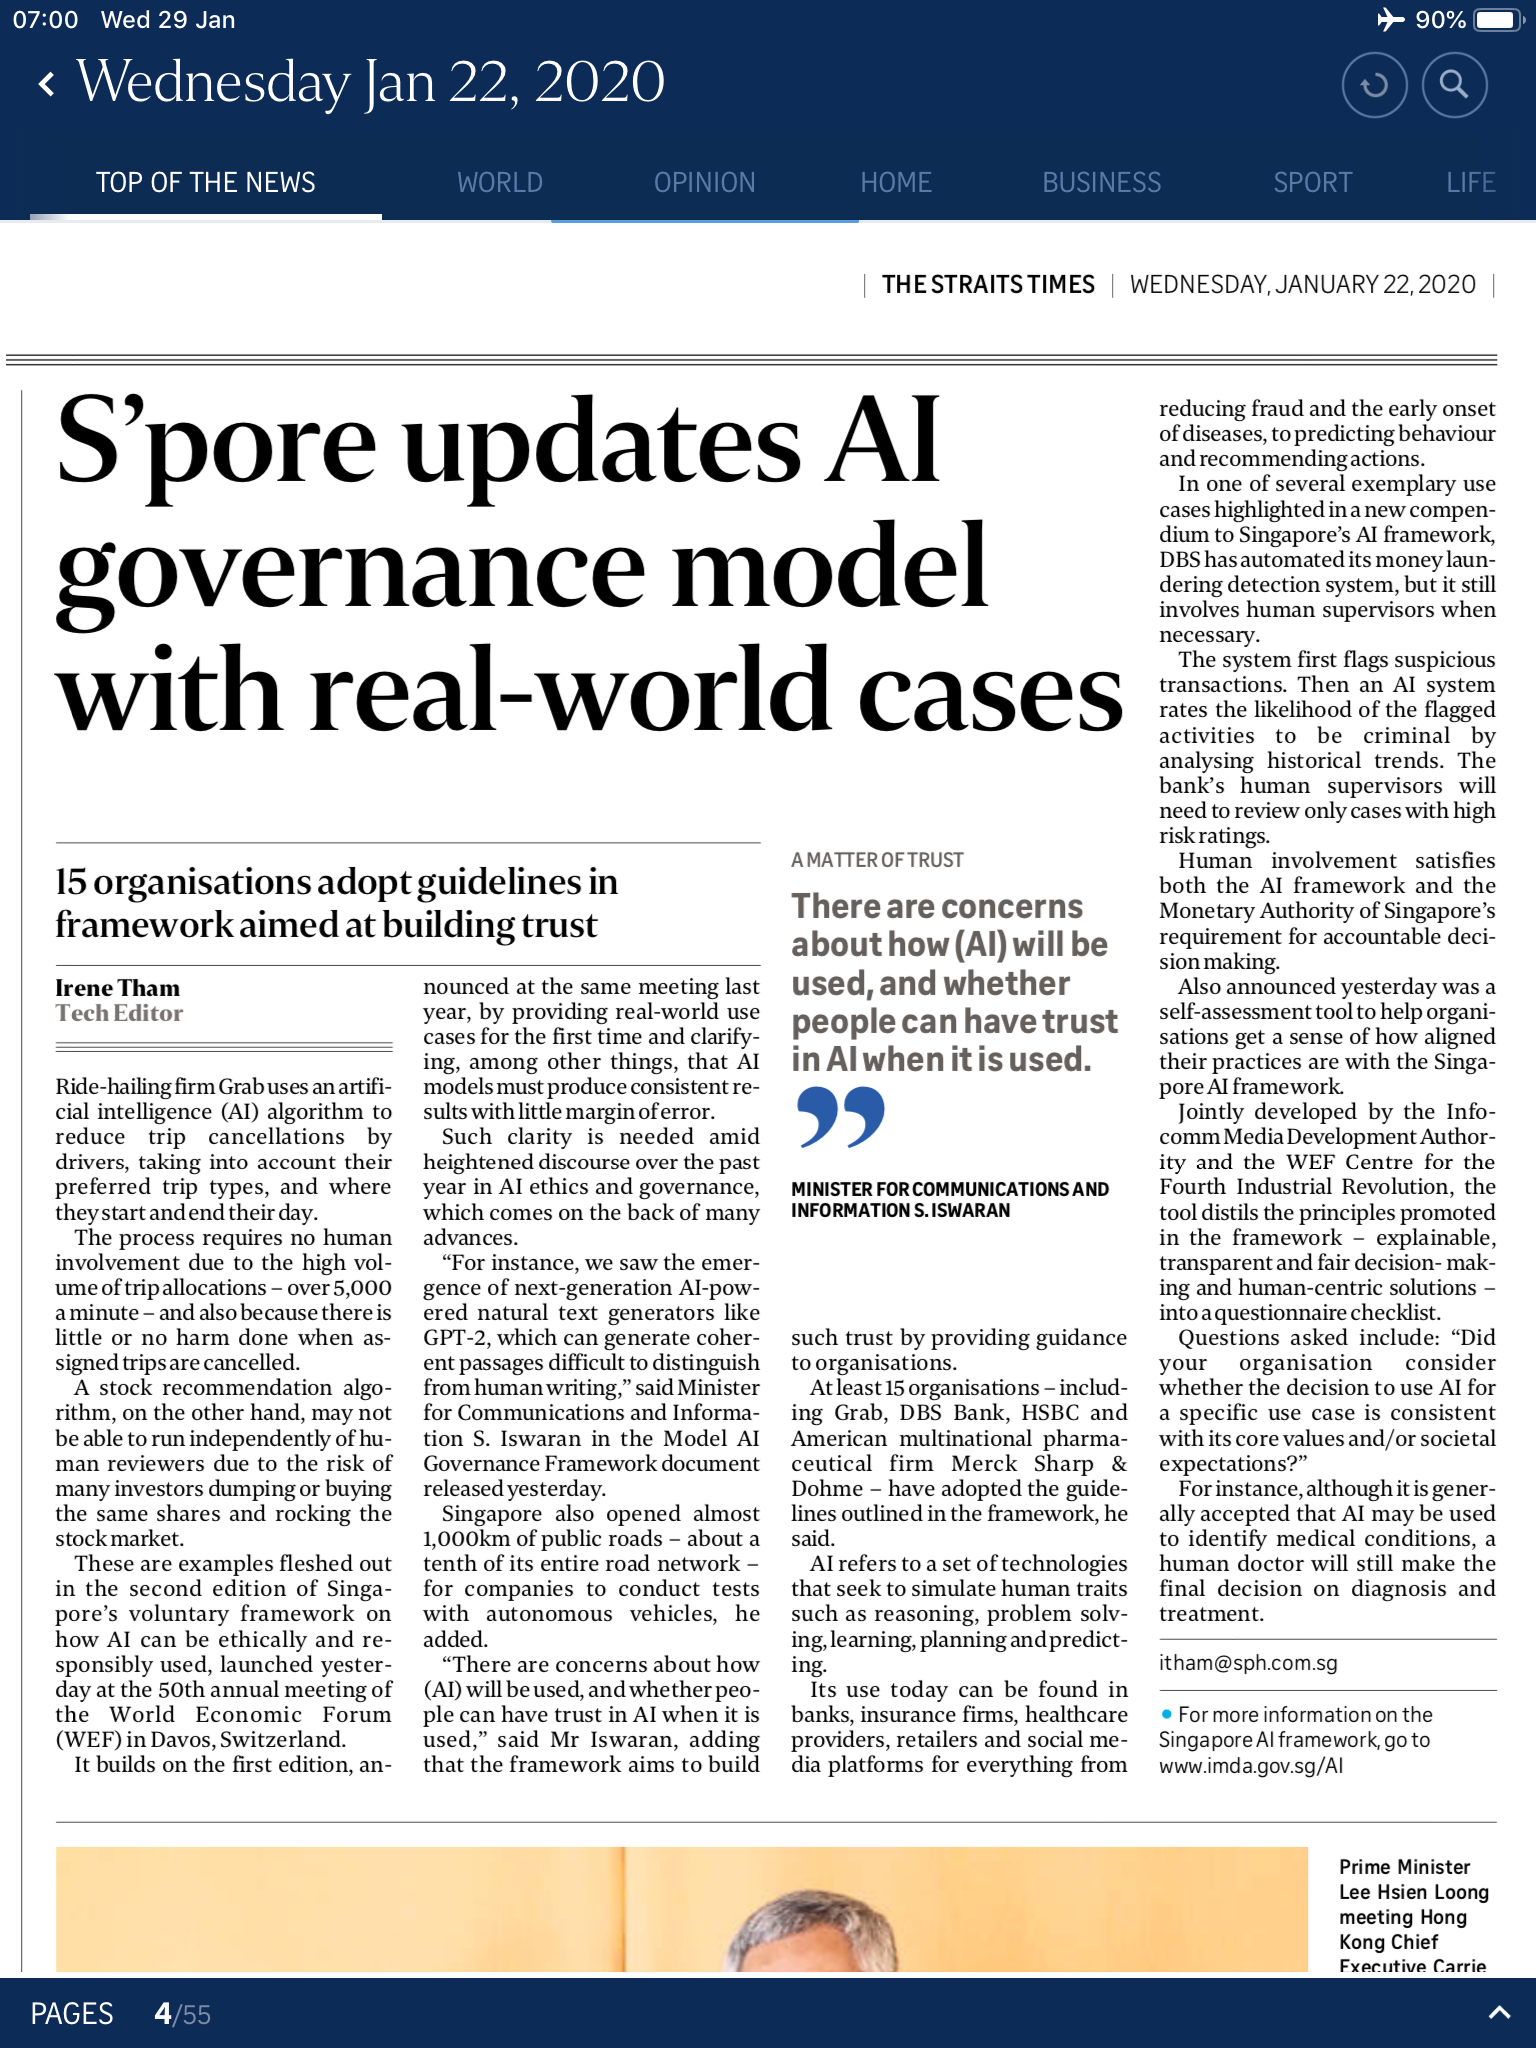Byline: (52, 976, 186, 1026)
Headline: (48, 381, 1123, 739)
Image: (52, 1842, 1312, 1972)
Text: (1155, 393, 1501, 1621), (419, 977, 765, 1779), (52, 1071, 395, 1779), (791, 1327, 1128, 1779)
